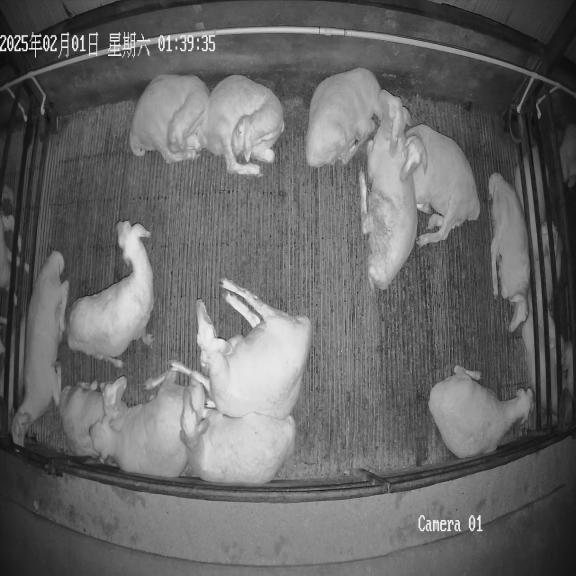lying: (196, 279, 312, 418), (360, 89, 417, 290), (11, 251, 69, 445), (180, 387, 296, 484), (90, 368, 188, 478), (400, 124, 480, 247), (428, 365, 533, 458), (203, 75, 284, 176), (306, 68, 382, 167), (129, 75, 209, 164), (488, 173, 530, 332), (58, 376, 127, 458)
stand: (67, 220, 154, 367)
